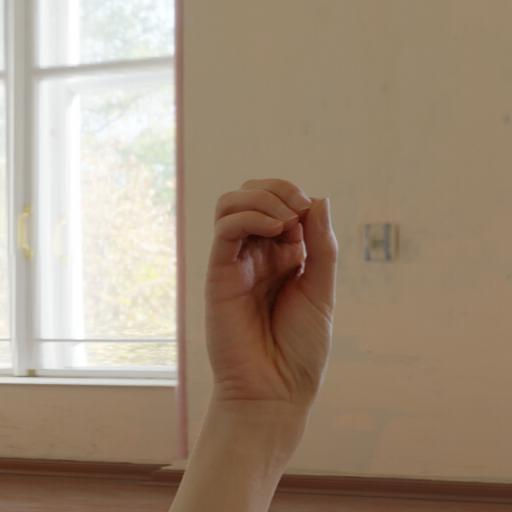O: (195, 173, 344, 421)
